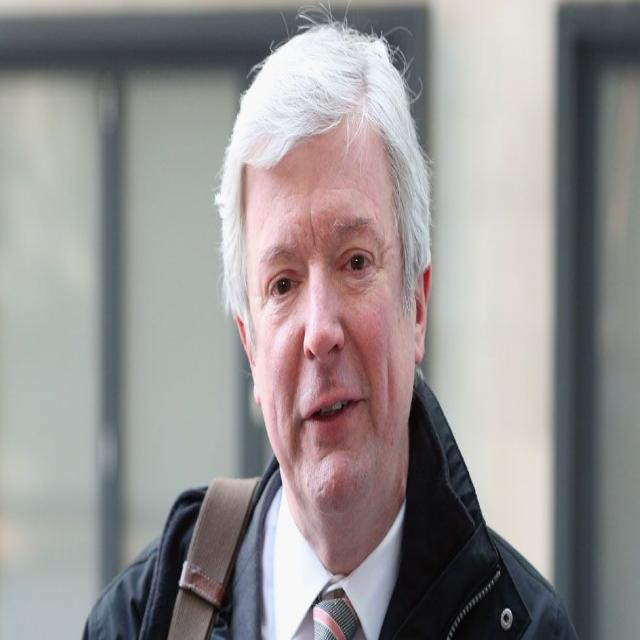human: (85, 26, 585, 640)
